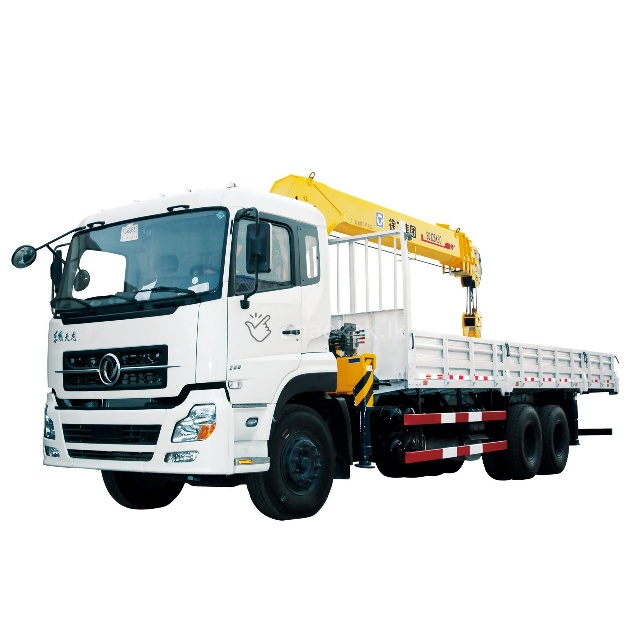Truck: (10, 173, 618, 521)
